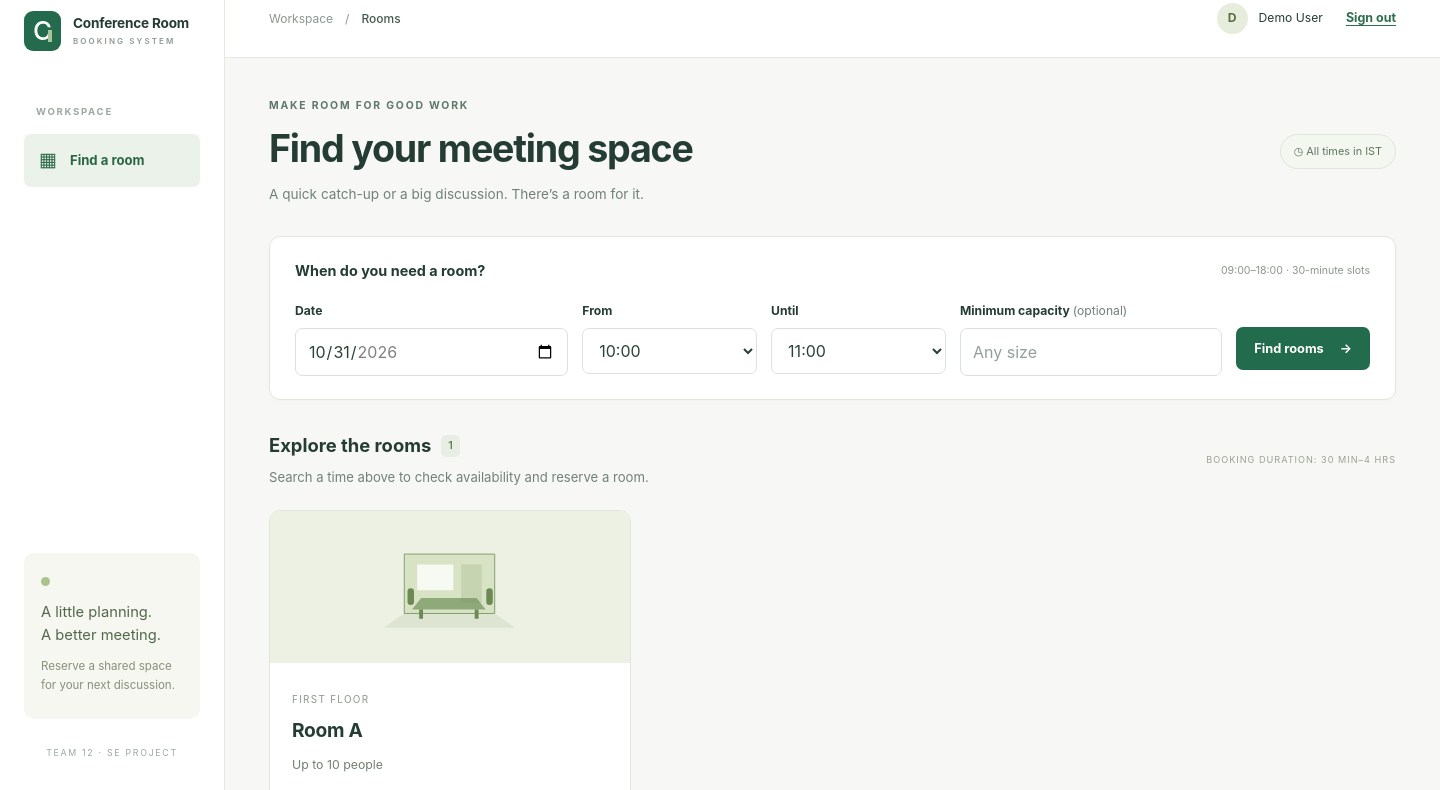
Scenario: TC16 / login and session UI › returns to login when a booking request reports session expiry
The width and height of the screenshot is (1440, 790).
Expected: the heading "Room A" is shown, [292,718,362,742]
Click the button "Find rooms →": point(1303, 348) [1236,327,1370,370]
(page scrolled)
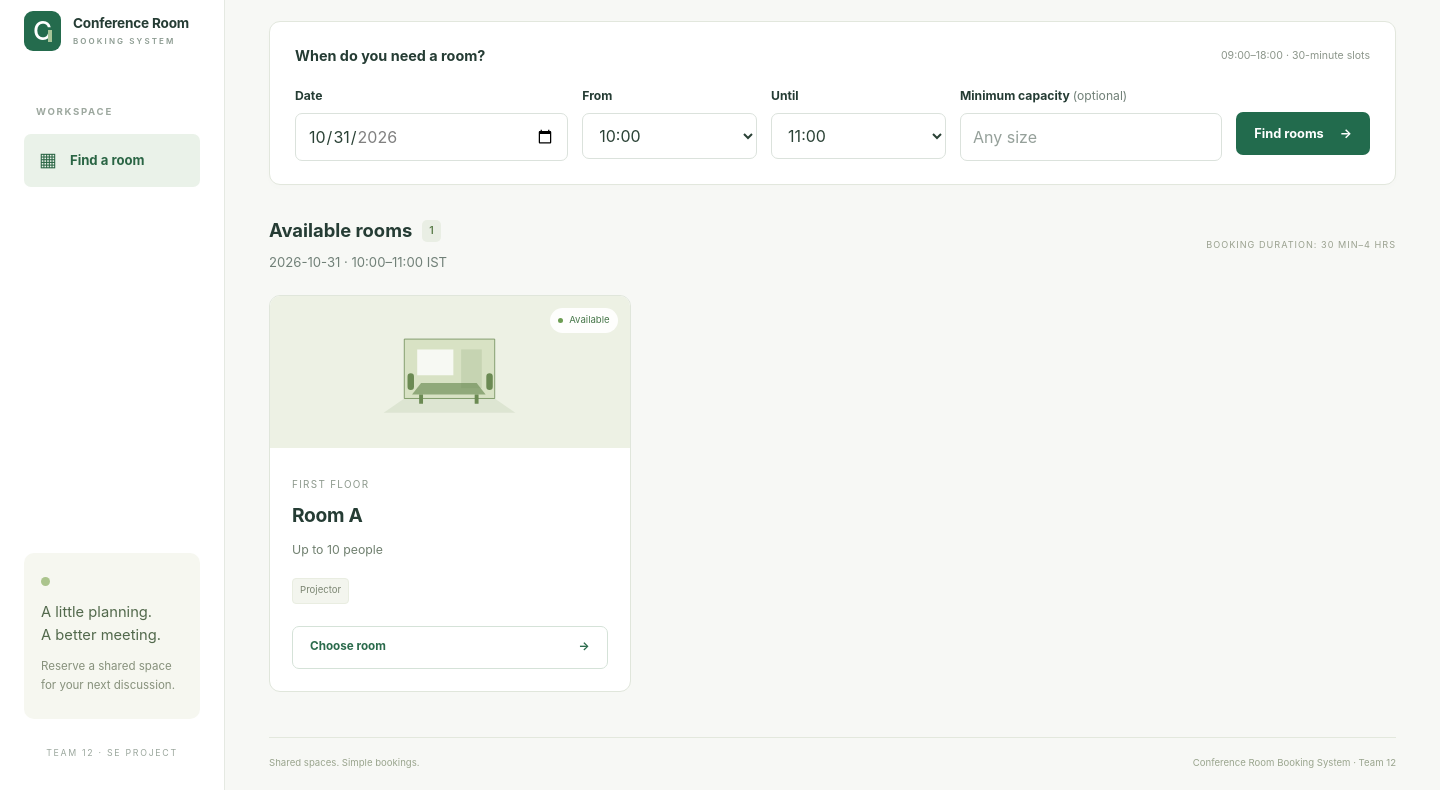
Expected: the heading "Available rooms 1" is shown, [269,217,447,245]
Click the button "Choose room →": point(348, 646) [292,626,608,668]
(page scrolled)
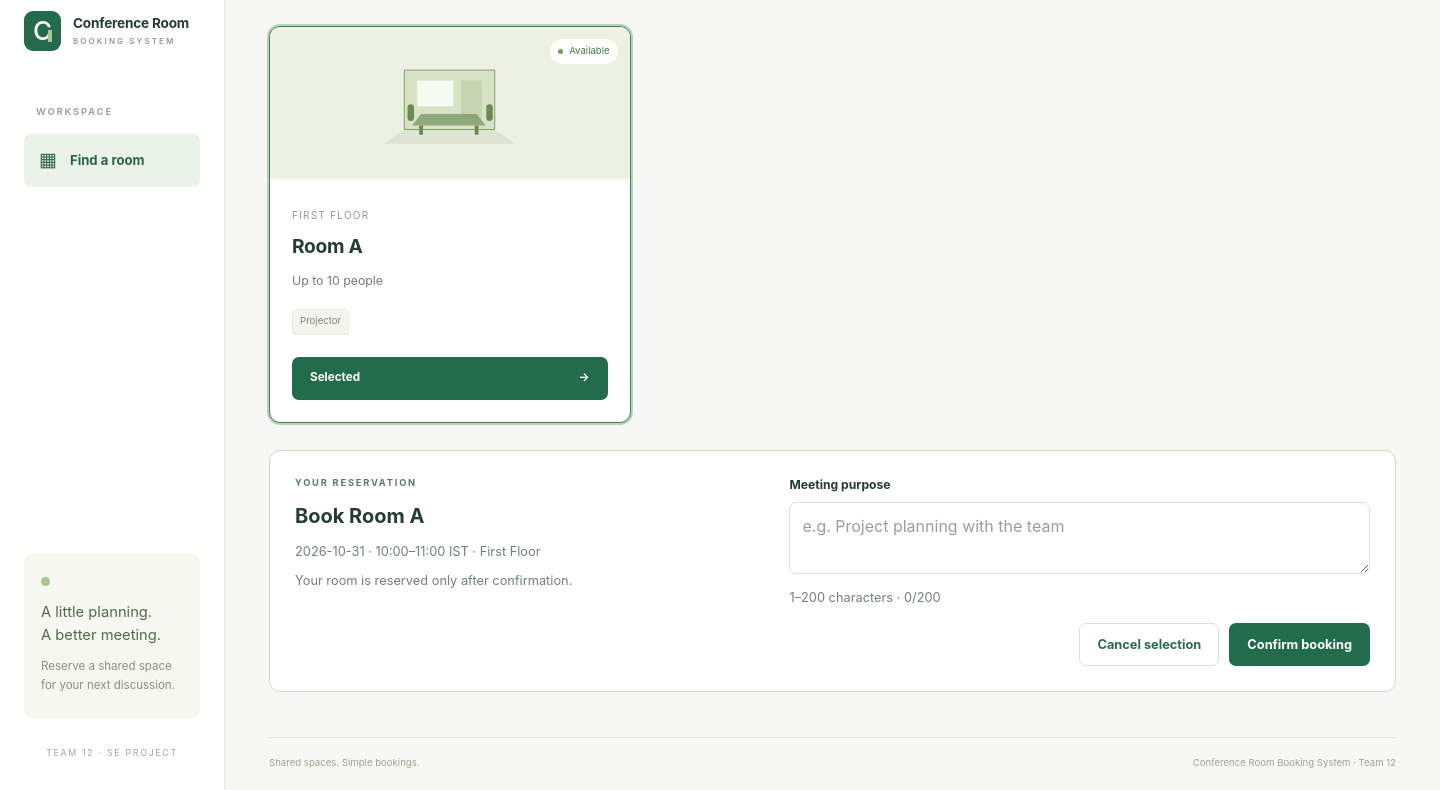
In the text box labelled "Meeting purpose": point(1080, 538) [789,502,1370,574], type "Planning"
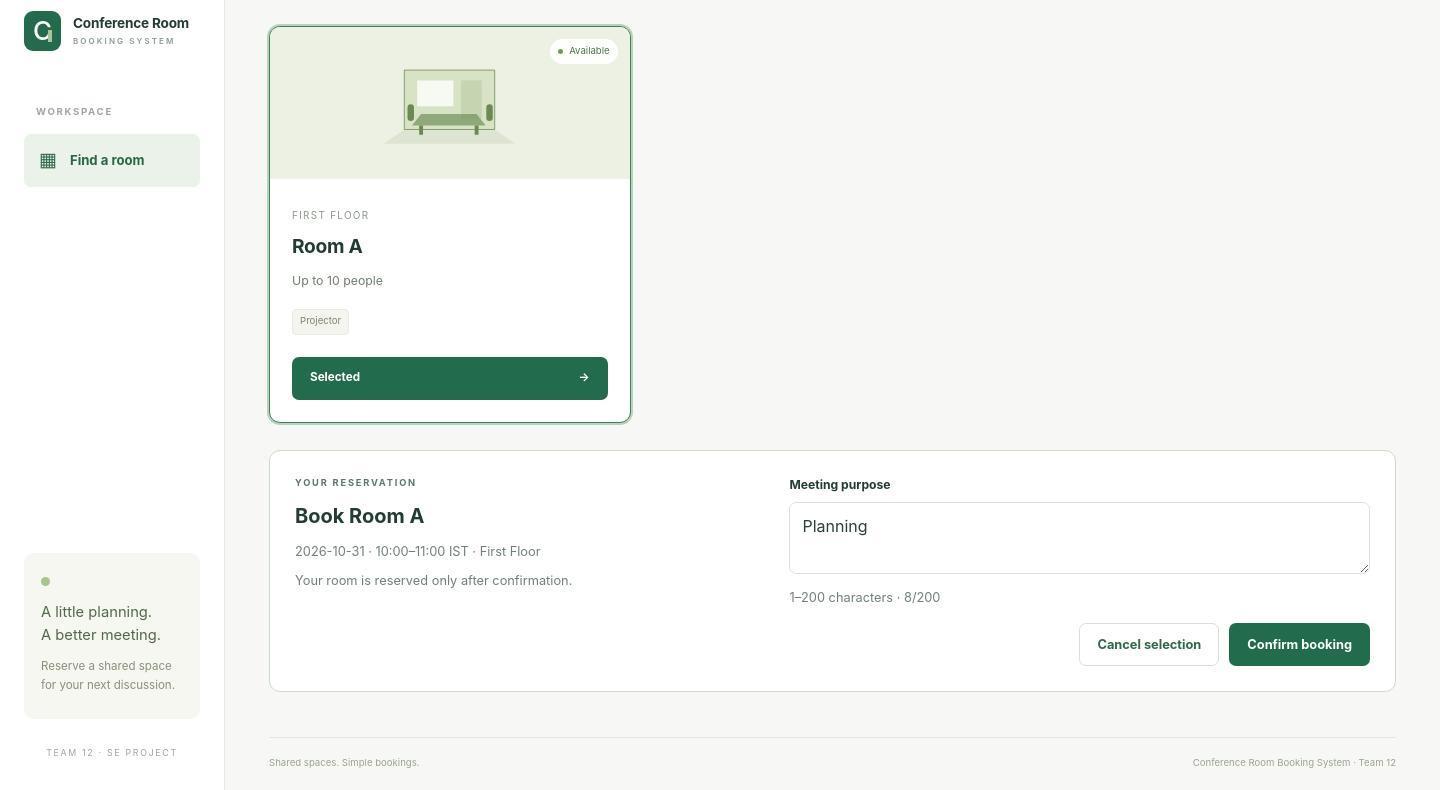
Click the button "Confirm booking": point(1300, 644) [1229,623,1370,666]
(page scrolled)
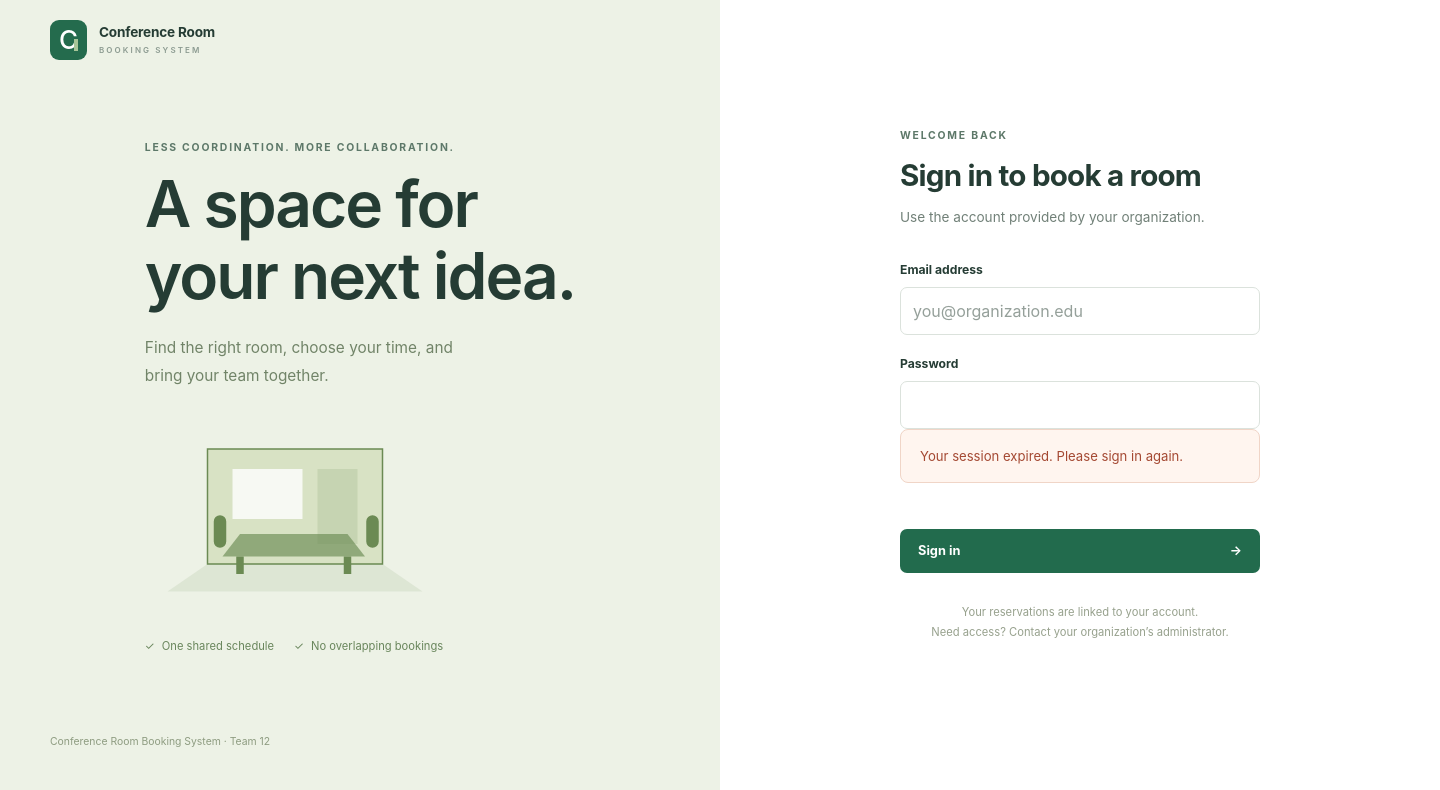
Expected: the message shows "session expired", [920,448,1183,464]
